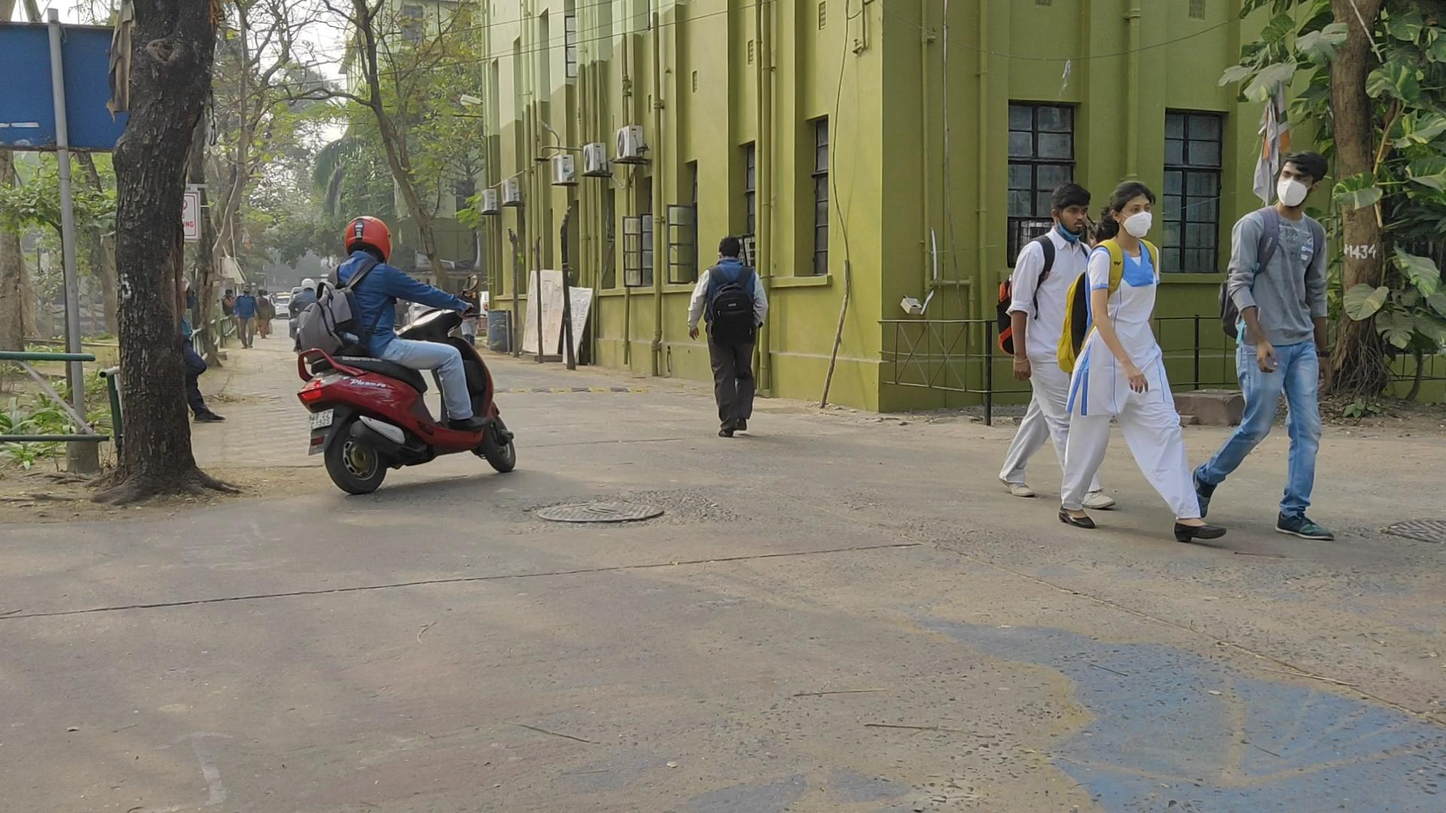bike: (295, 217, 516, 494)
